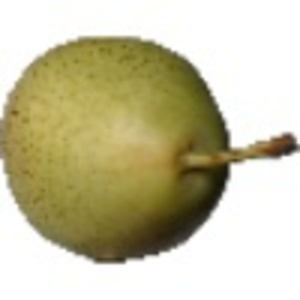pera: (1, 35, 300, 266)
